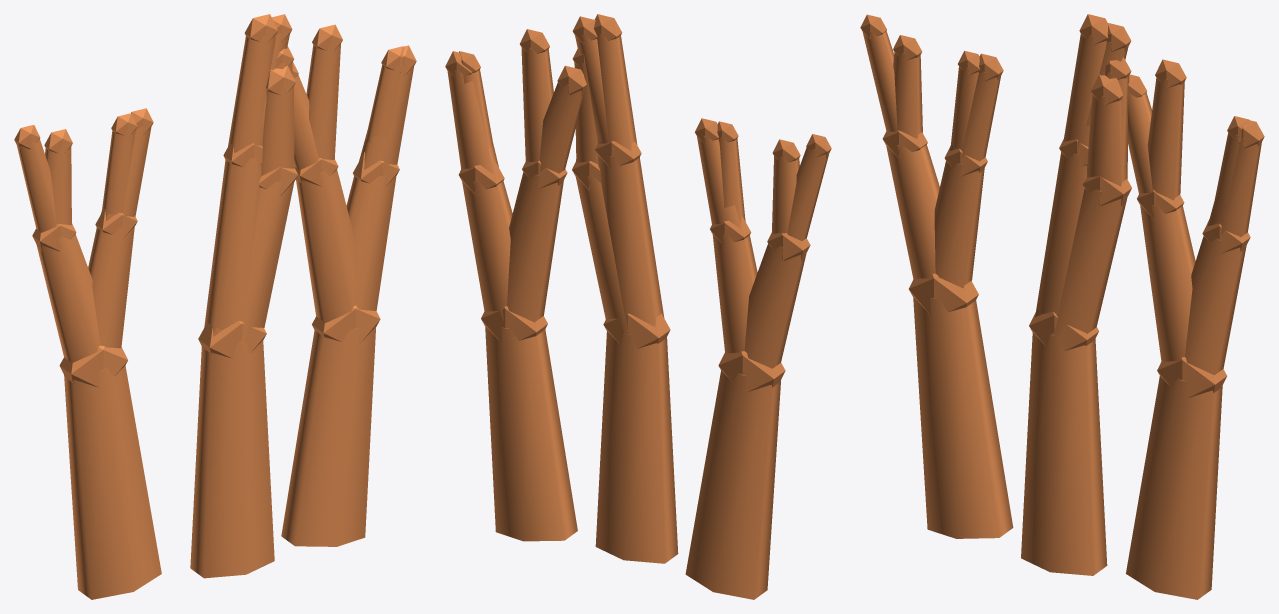
The model's file is 02-elkhorn-grove.glb.
3 views of the same model, side by side, from view 1: azimuth 30°, elevation 25°; view 2: azimuth 150°, elevation 25°; view 3: azimuth 330°, elevation 25° (orthographic). The views are drawn at different scales.
Size of the model in its own units: 2.42 by 3.2 by 0.4032.
